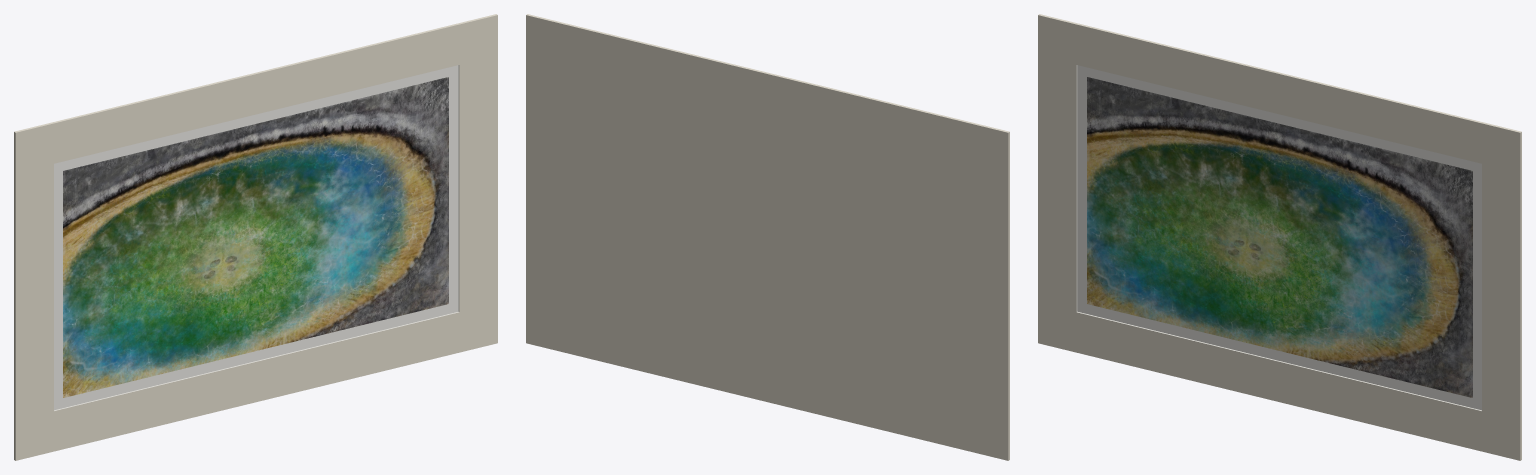
The model's file is hz038_moyen_passe-partout.glb.
3 renders of one model, left to right at view 1: azimuth 30°, elevation 25°; view 2: azimuth 150°, elevation 25°; view 3: azimuth 330°, elevation 25°, orthographic.
Visible parts, largest first — view 1: hz038_moyen_passe-partout; view 2: hz038_moyen_passe-partout; view 3: hz038_moyen_passe-partout.
Boxes of the visible parts, <box> form: hz038_moyen_passe-partout: <box>14,14,497,460</box>; hz038_moyen_passe-partout: <box>526,14,1009,460</box>; hz038_moyen_passe-partout: <box>1038,14,1521,460</box>.
Bounding box in the file's own units: 1 × 0.65 × 0.0055.
Materials: 4 (1 with a texture image).
